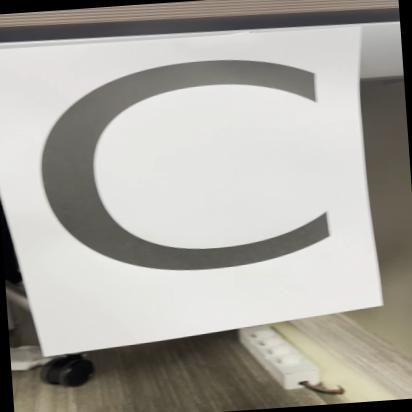seat: (0, 20, 399, 339)
